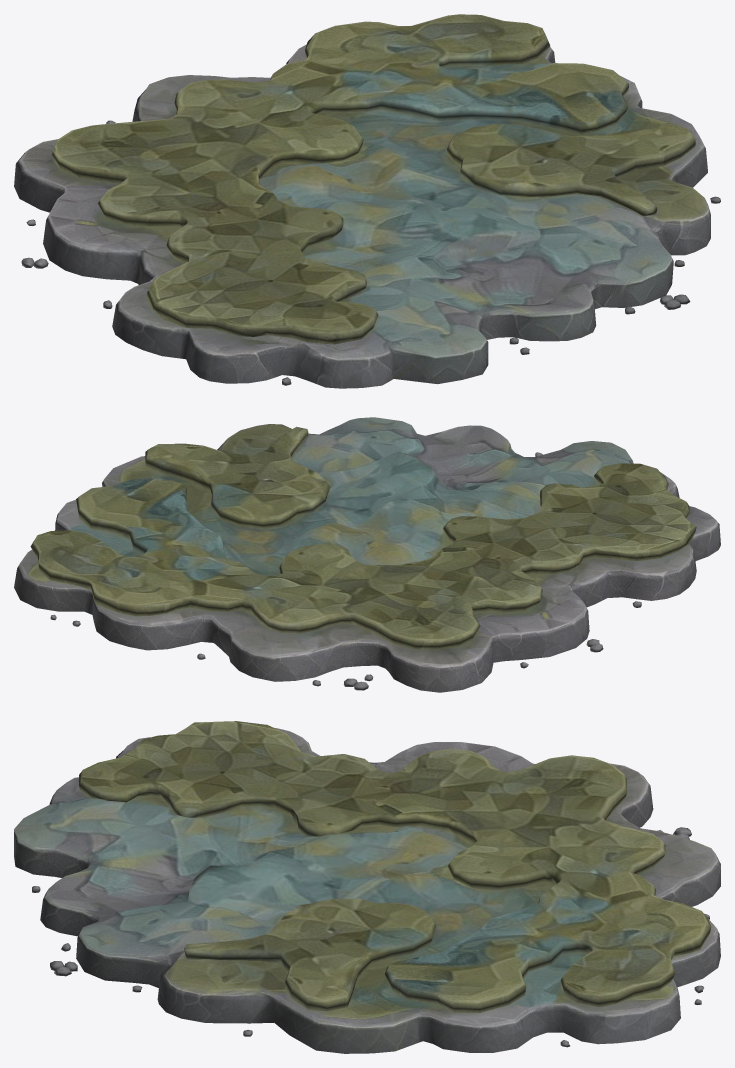
File: Floating_Highlands.glb
3 renders of one model, top to bottom at view 1: azimuth 30°, elevation 25°; view 2: azimuth 150°, elevation 25°; view 3: azimuth 270°, elevation 25°, orthographic. The views are drawn at different scales.
Size of the model in its own units: 1 by 0.0754 by 1.
1 material, 1 textured.
